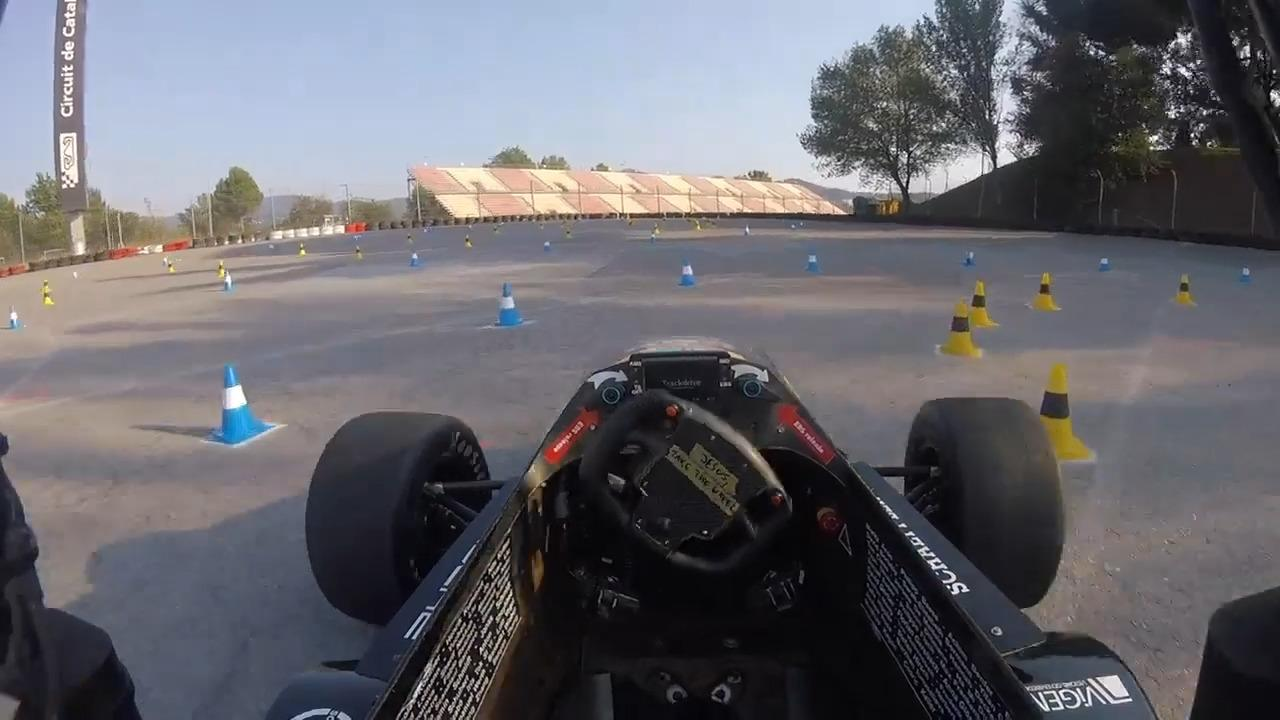blue_cone: (210, 360, 277, 446), (491, 286, 530, 330), (6, 304, 26, 331), (679, 261, 698, 289), (803, 247, 823, 273), (219, 269, 238, 292), (408, 249, 423, 269)
yellow_cone: (1014, 358, 1097, 464), (939, 301, 982, 359), (961, 280, 996, 331), (1025, 271, 1062, 312), (1171, 274, 1198, 307)
